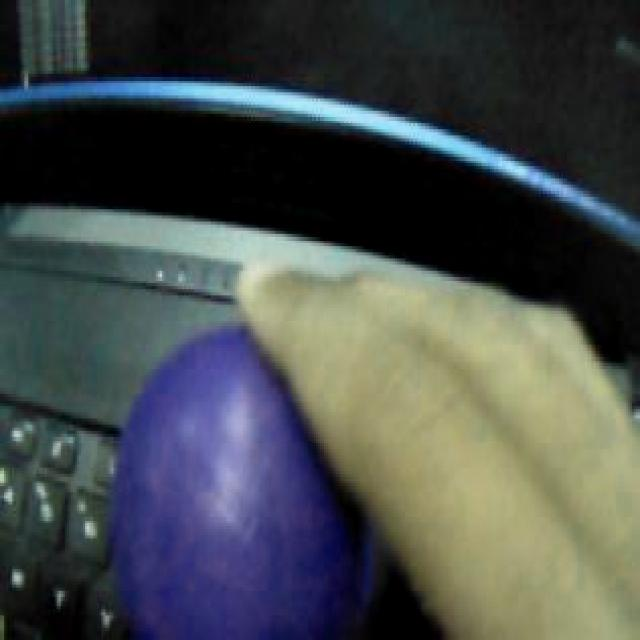BallPurple: (109, 320, 375, 640)
